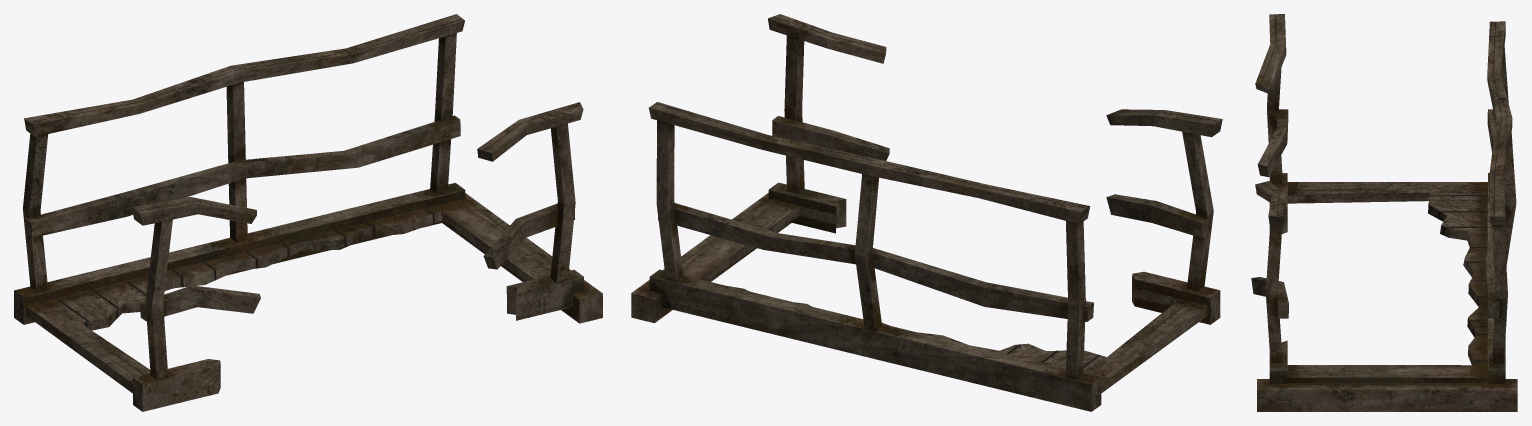
Rendered from bridge1.glb.
3 renders of one model, left to right at view 1: azimuth 30°, elevation 25°; view 2: azimuth 150°, elevation 25°; view 3: azimuth 270°, elevation 25°, orthographic. The views are drawn at different scales.
Parts seen in each view (by area): view 1: Cube.006; view 2: Cube.006; view 3: Cube.006.
Part boxes in pixels (box(x1,y1,x2,y2)): Cube.006: box(14, 14, 602, 411); Cube.006: box(631, 14, 1222, 411); Cube.006: box(1251, 14, 1517, 411).
Bounding box in the file's own units: 2.07 × 0.9132 × 1.14.
Materials: 1 (1 with a texture image).
